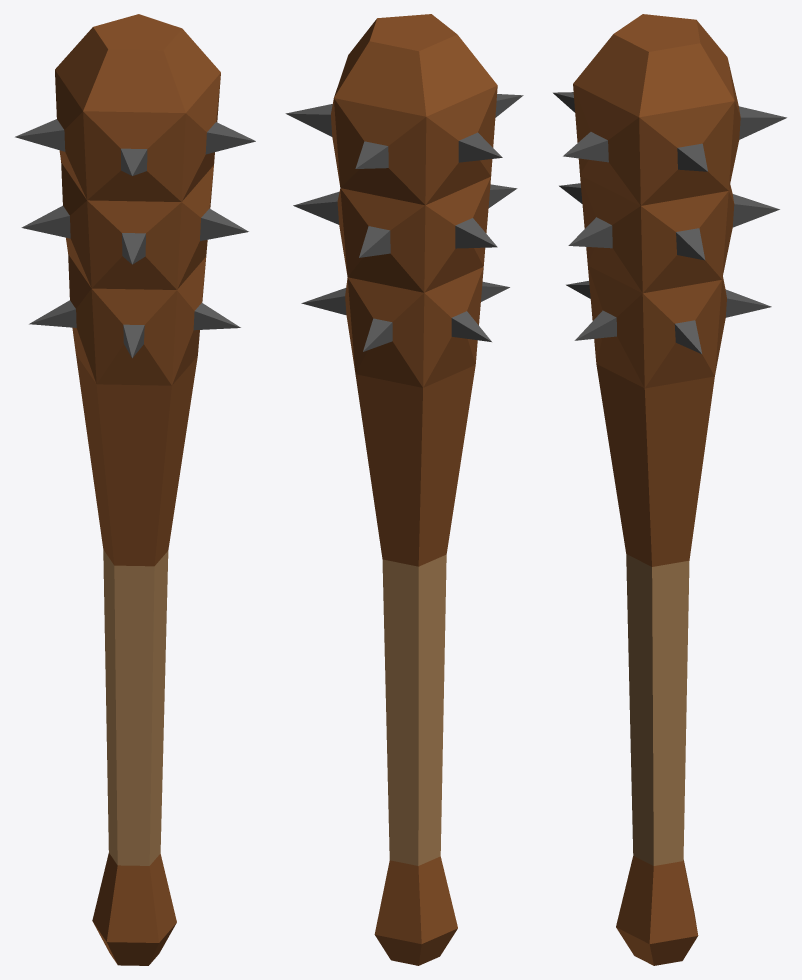
The model's file is Low Poly Weapon Pack - by Kickin It Studios.fbx_Spiked_Club.glb.
3 renders of one model, left to right at view 1: azimuth 30°, elevation 25°; view 2: azimuth 150°, elevation 25°; view 3: azimuth 270°, elevation 25°, orthographic.
Visible parts, largest first — view 1: Spiked Club; view 2: Spiked Club; view 3: Spiked Club.
Part boxes in pixels (x1,y1,x2,y2): Spiked Club: [15, 14, 255, 965]; Spiked Club: [285, 14, 523, 965]; Spiked Club: [553, 14, 786, 965].
Size of the model in its own units: 0.2657 by 1.12 by 0.2584.
